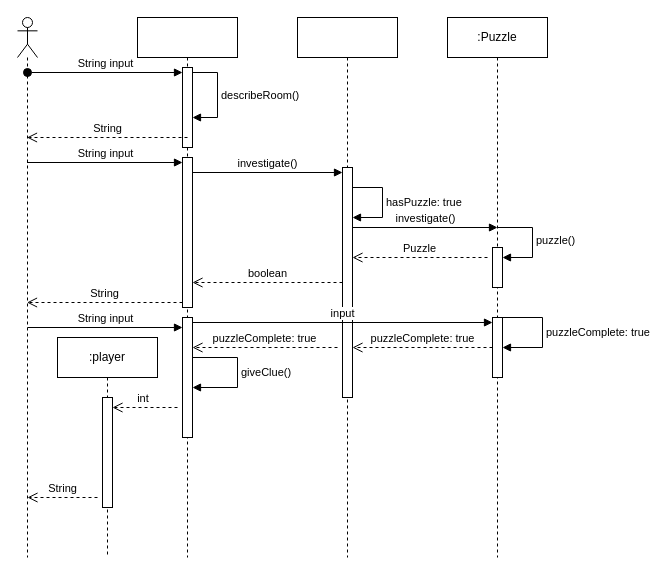
Some shapes in this 668 by 575 pixel diagram are drawn without their labels. Each missing label, with the centre of its shape:
":Room" belongs at (187,287).
"Clue" belongs at (347,287).
